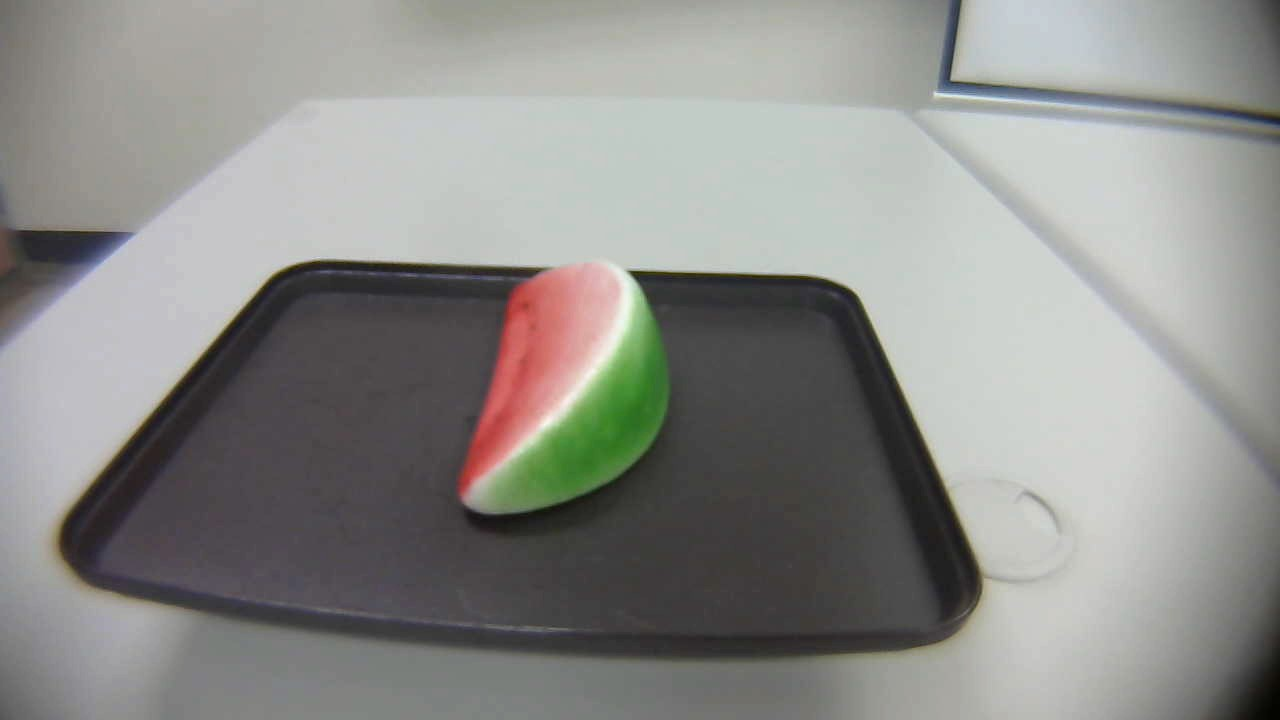water melon: (452, 250, 672, 514)
